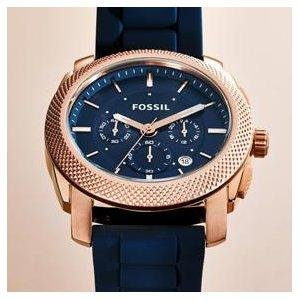clock: (41, 48, 259, 216)
